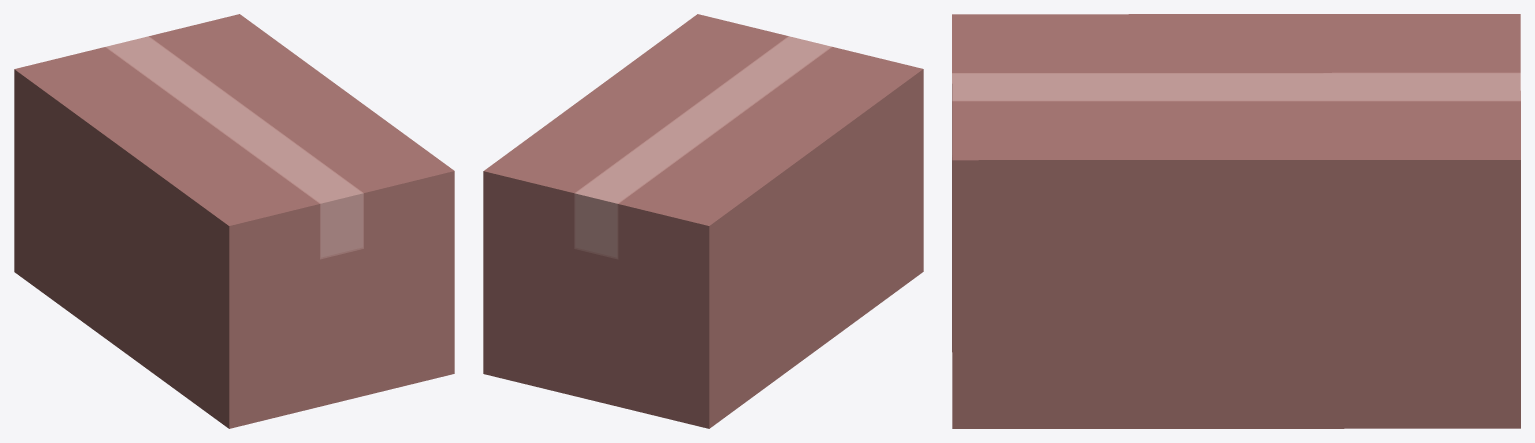
3 views of the same model, side by side, from view 1: azimuth 30°, elevation 25°; view 2: azimuth 150°, elevation 25°; view 3: azimuth 270°, elevation 25° (orthographic). The views are drawn at different scales.
Visible parts, largest first — view 1: 3d_Box.02; view 2: 3d_Box.02; view 3: 3d_Box.02.
Part boxes in pixels (left/top/right/bottom): 3d_Box.02: left=14, top=14, right=454, bottom=428; 3d_Box.02: left=483, top=14, right=923, bottom=428; 3d_Box.02: left=952, top=14, right=1520, bottom=428.
Size of the model in its own units: 0.4241 by 0.3637 by 0.6977.
